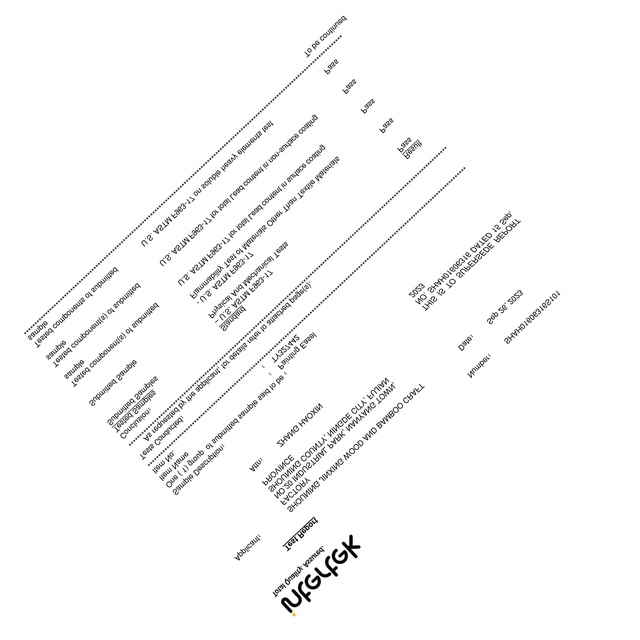intertek: (279, 532, 362, 618)
